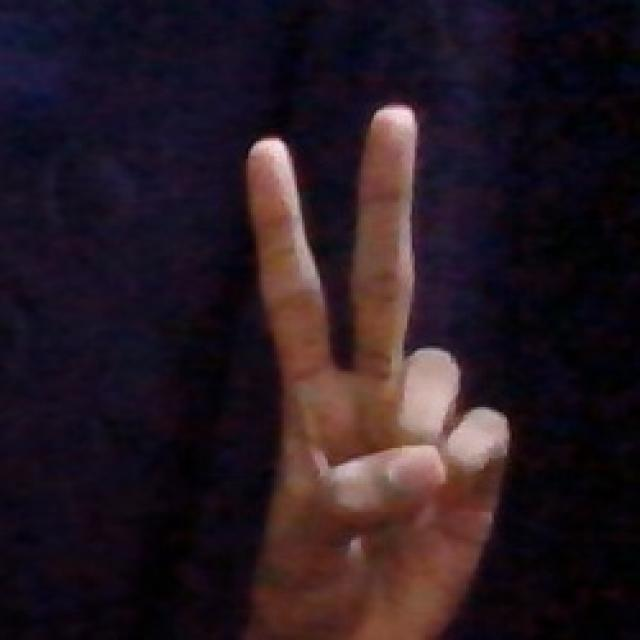Numeric-2: (238, 97, 512, 636)
